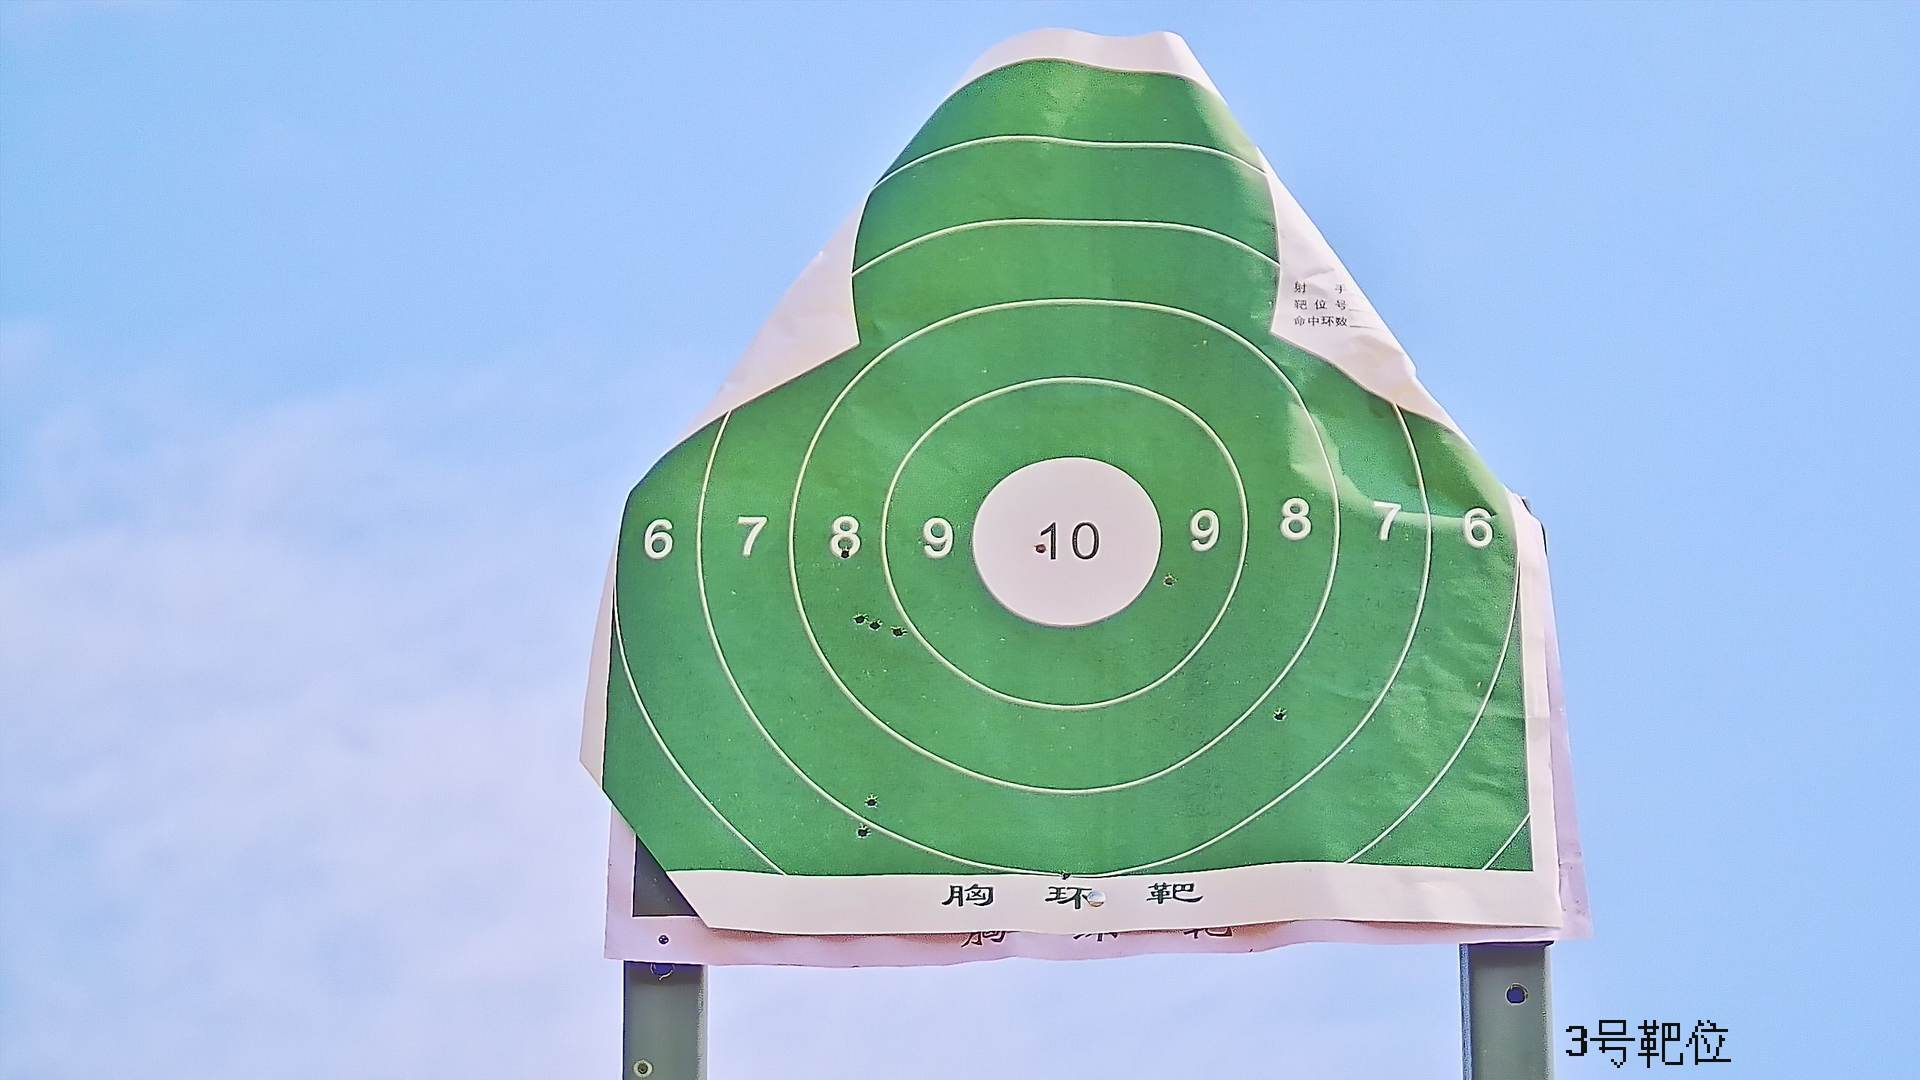hole: (891, 626, 910, 637), (864, 795, 878, 807), (857, 825, 872, 837), (1164, 575, 1176, 587), (853, 613, 864, 625), (1274, 709, 1284, 720), (841, 549, 851, 560), (1036, 545, 1047, 554), (872, 620, 881, 630)
kernel: (1063, 541, 1069, 542)
target: (603, 61, 1538, 895)
ten: (971, 454, 1162, 629)
